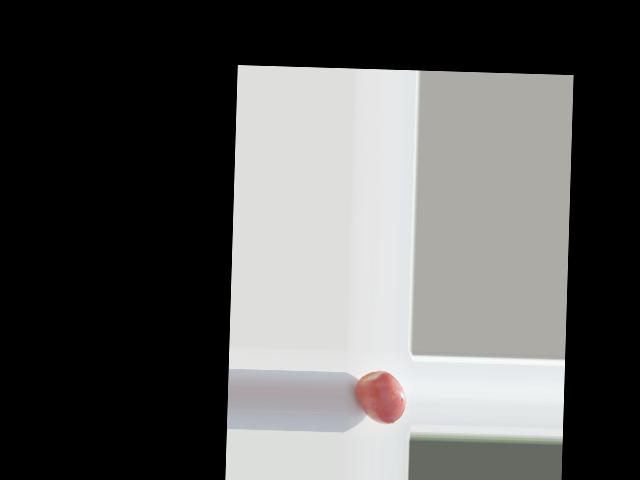tomato: (354, 370, 406, 424)
